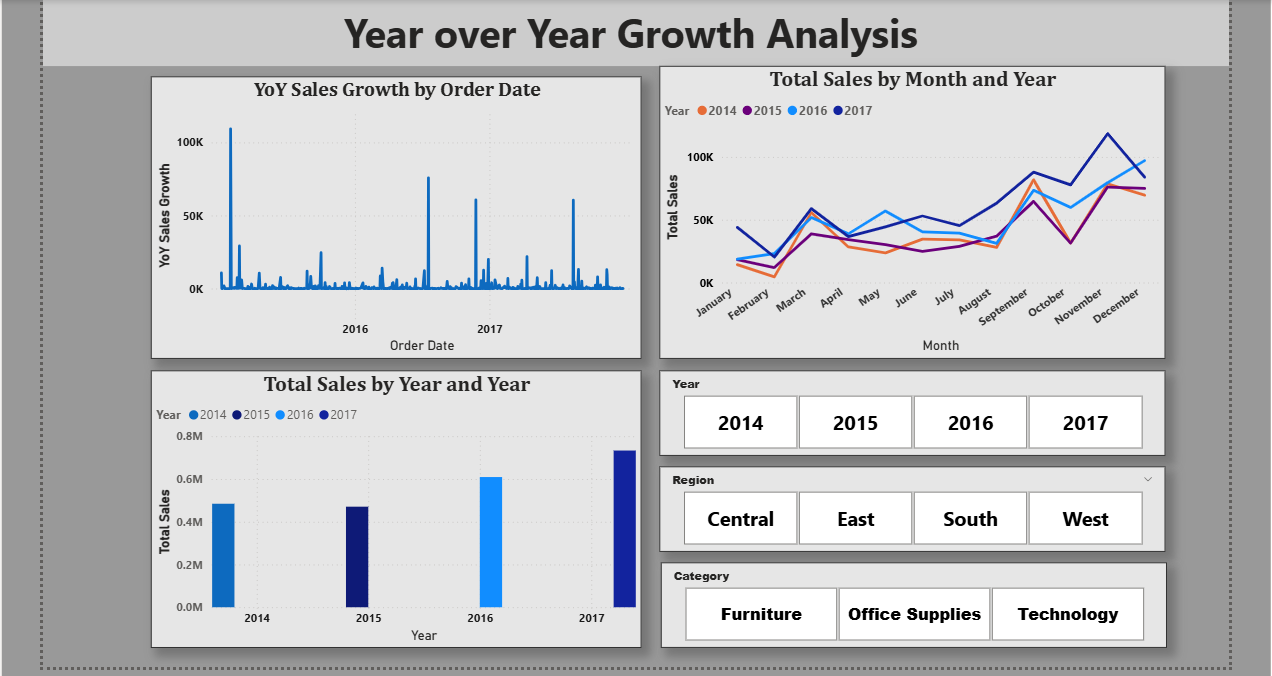

What the dashboard file says about the page in this screenshot:
{"tool":"powerbi","page":{"name":"YoY Growth Analysis","canvas":[1280,720],"ordinal":3},"visuals":[{"type":"textbox","box":[0,0,1280.8,71.2],"z":0},{"type":"lineChart","fields":{"Y":["Orders.YoY Sales Growth"],"Category":["Orders.Order Date"]},"box":[116.6,82.6,529.5,304.4],"z":1000},{"type":"lineChart","fields":{"Category":["Orders.Order Date.Variation.Date Hierarchy.Month"],"Y":["Orders.Total Sales"],"Series":["Orders.Order Date.Variation.Date Hierarchy.Year"]},"box":[665.5,71.2,545.7,315.7],"z":2000},{"type":"clusteredColumnChart","fields":{"Category":["Orders.Order Date.Variation.Date Hierarchy.Year"],"Y":["Orders.Total Sales"],"Series":["Orders.Order Date.Variation.Date Hierarchy.Year"]},"box":[116.6,399.9,529.5,299.6],"z":3000},{"type":"slicer","fields":{"Values":["Orders.Order Date.Variation.Date Hierarchy.Year"]},"box":[665.5,399.9,545.7,92.3],"z":3001},{"type":"slicer","fields":{"Values":["Orders.Region"]},"box":[665.5,503.6,545.7,92.3],"z":3002},{"type":"slicer","fields":{"Values":["Orders.Category"]},"box":[667.1,607.2,545.7,92.3],"z":3003}]}

Visuals, with their boxes in screenshot pixels (x1, y1, x2, y2):
textbox: detection(40, 0, 1225, 63)
lineChart - Orders.YoY Sales Growth x Orders.Order Date: detection(148, 73, 638, 355)
lineChart - Orders.Order Date.Variation.Date Hierarchy.Month x Orders.Total Sales: detection(656, 63, 1161, 355)
clusteredColumnChart - Orders.Order Date.Variation.Date Hierarchy.Year x Orders.Total Sales: detection(148, 367, 638, 644)
slicer - Orders.Order Date.Variation.Date Hierarchy.Year: detection(656, 367, 1161, 452)
slicer - Orders.Region: detection(656, 463, 1161, 548)
slicer - Orders.Category: detection(657, 559, 1162, 644)
